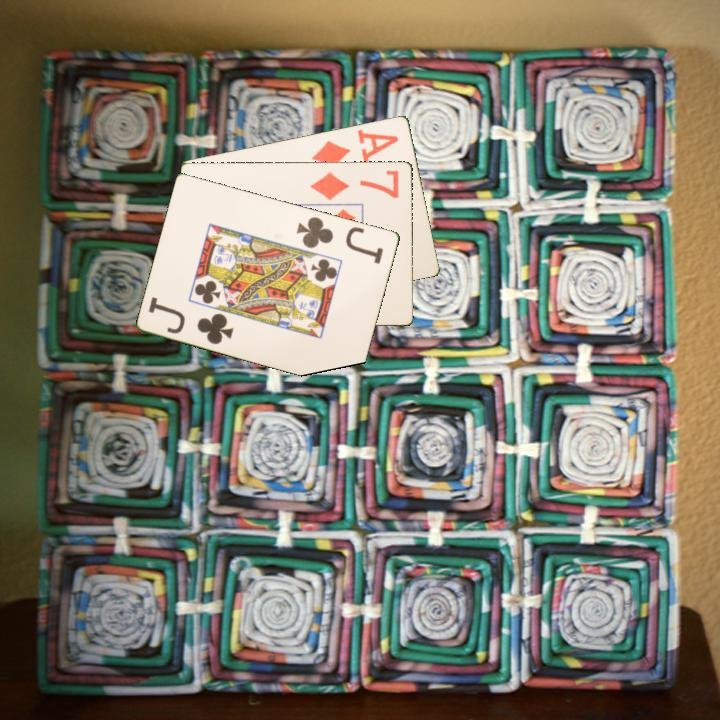7d: (307, 166, 402, 203)
Ad: (308, 125, 401, 171)
Jc: (293, 213, 387, 266), (145, 293, 237, 347)
